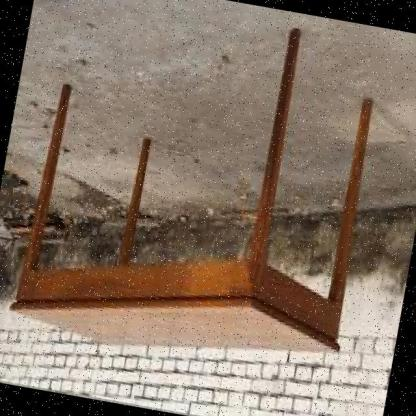Table: (0, 64, 376, 355)
